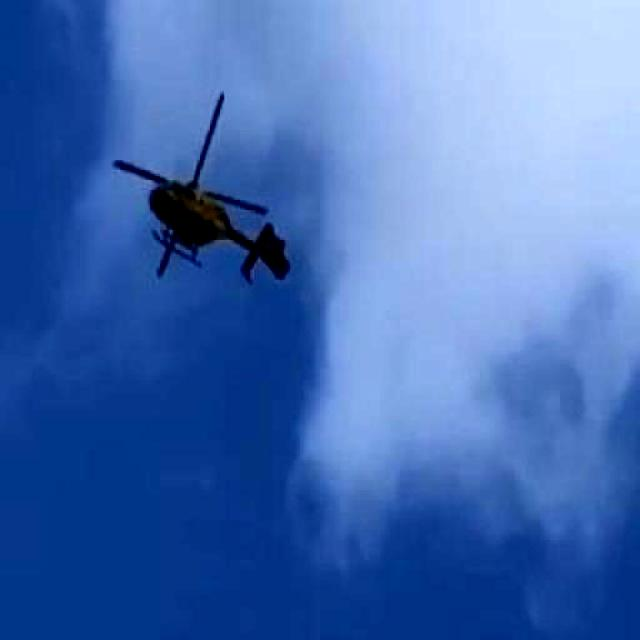drone: (92, 68, 319, 326)
